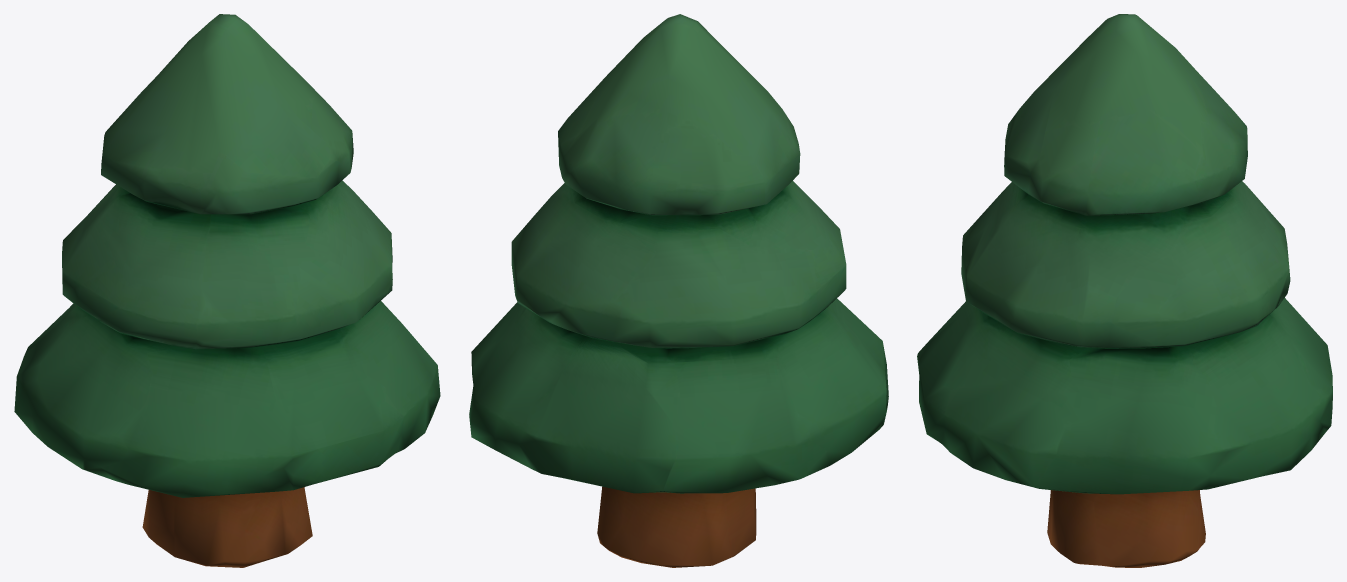
Rendered from tree-pine.glb.
The picture shows the model from 3 angles, left to right: view 1: azimuth 30°, elevation 25°; view 2: azimuth 150°, elevation 25°; view 3: azimuth 270°, elevation 25°; orthographic projection.
Parts seen in each view (by area): view 1: tripo_node_d7e21422-b67f-4d7f-b197-a9fdbbdc4393; view 2: tripo_node_d7e21422-b67f-4d7f-b197-a9fdbbdc4393; view 3: tripo_node_d7e21422-b67f-4d7f-b197-a9fdbbdc4393.
Boxes of the visible parts, box(x1,y1,x2,y2) form: tripo_node_d7e21422-b67f-4d7f-b197-a9fdbbdc4393: box(14, 14, 440, 567); tripo_node_d7e21422-b67f-4d7f-b197-a9fdbbdc4393: box(469, 14, 888, 567); tripo_node_d7e21422-b67f-4d7f-b197-a9fdbbdc4393: box(917, 14, 1332, 567).
Size of the model in its own units: 0.7105 by 1 by 0.7208.
1 material, 1 textured.
